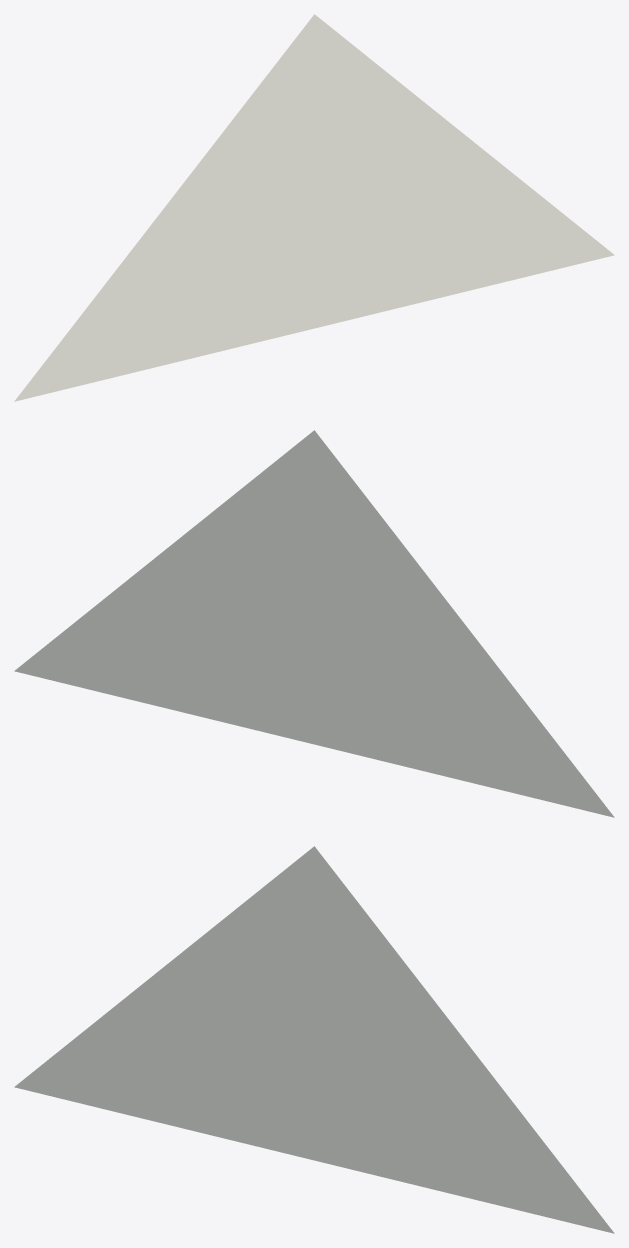
Rendered from gltf_extensions_phase42.gltf.
The picture shows the model from 3 angles, top to bottom: view 1: azimuth 30°, elevation 25°; view 2: azimuth 150°, elevation 25°; view 3: azimuth 330°, elevation 25°; orthographic projection.
Parts seen in each view (by area): view 1: phase42_extension_triangle; view 2: phase42_extension_triangle; view 3: phase42_extension_triangle.
Part boxes in pixels (x1,y1,x2,y2): phase42_extension_triangle: (14, 14, 614, 401); phase42_extension_triangle: (14, 430, 614, 817); phase42_extension_triangle: (14, 846, 614, 1233).
Size of the model in its own units: 2 by 1 by 0.
1 material, 1 textured.
